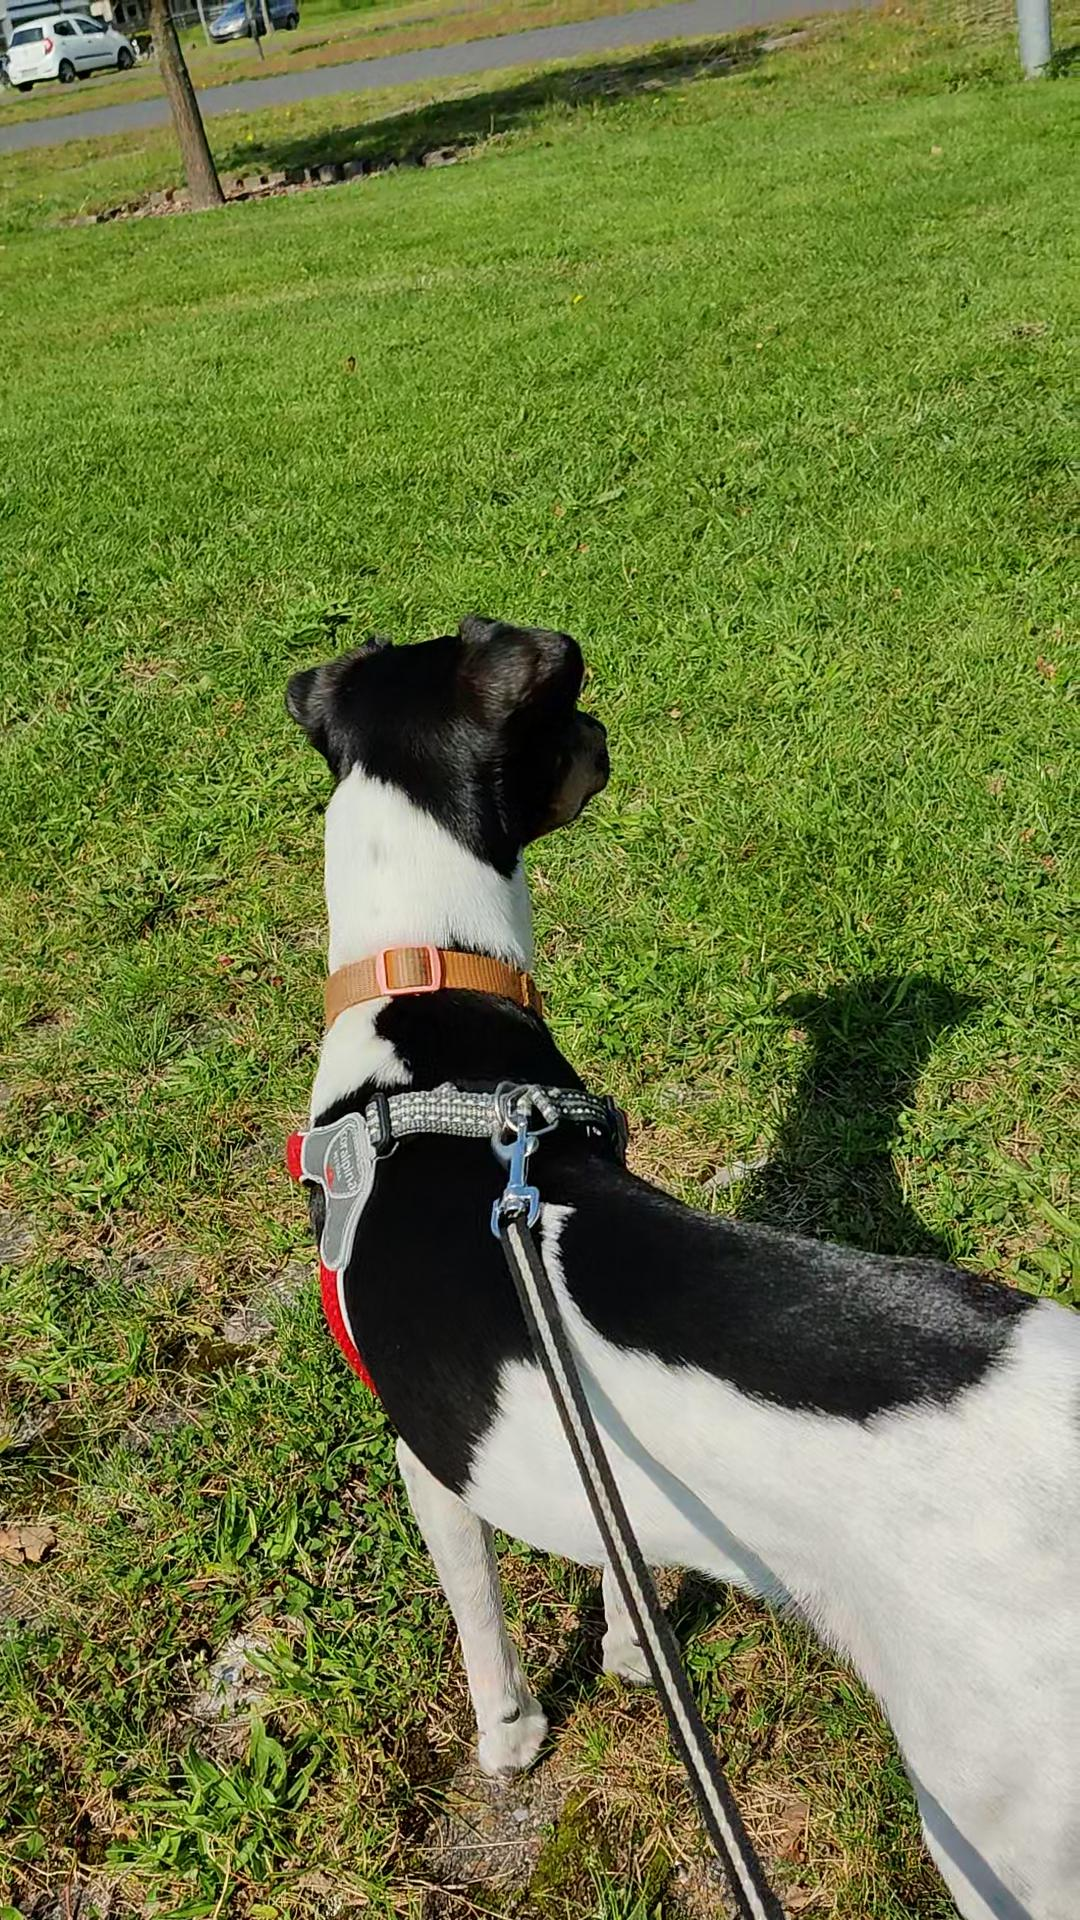Dog: (252, 580, 1079, 1919)
